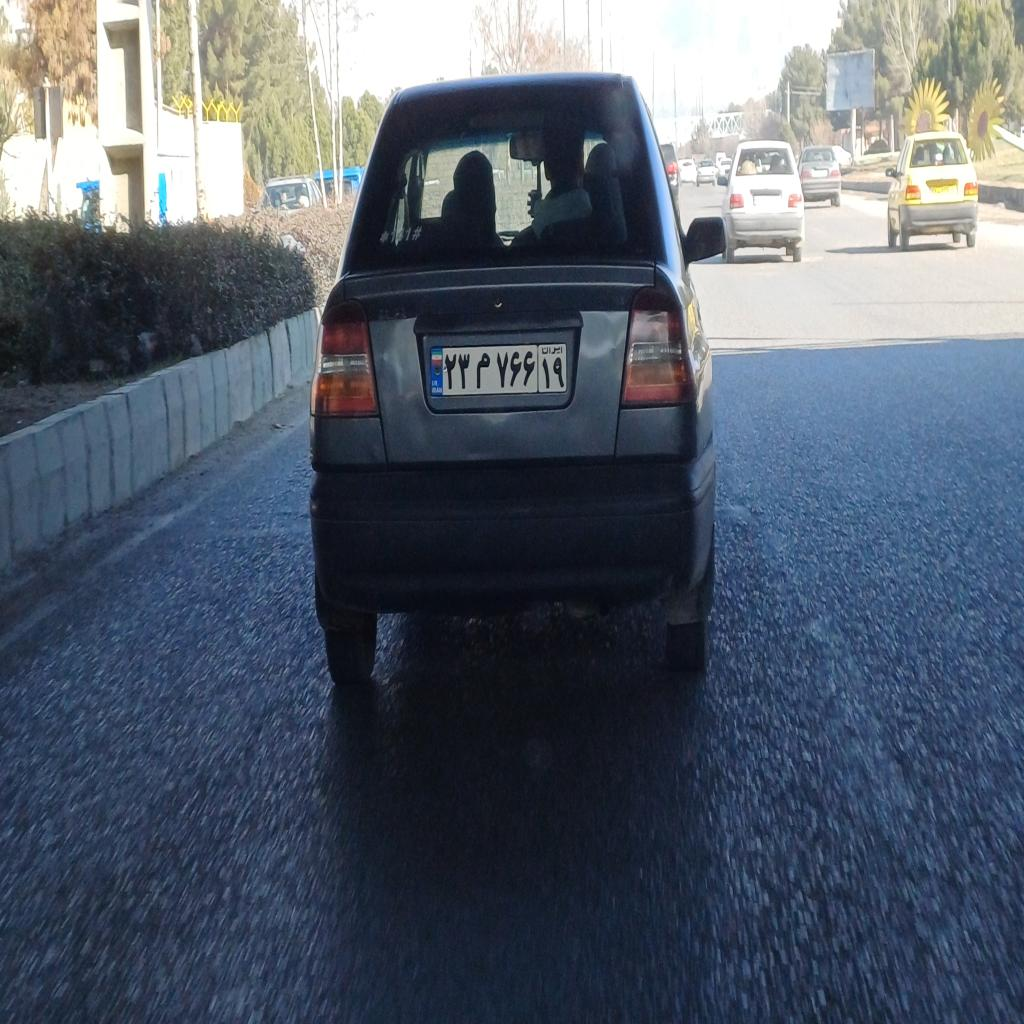Plates: (429, 344, 568, 393)
